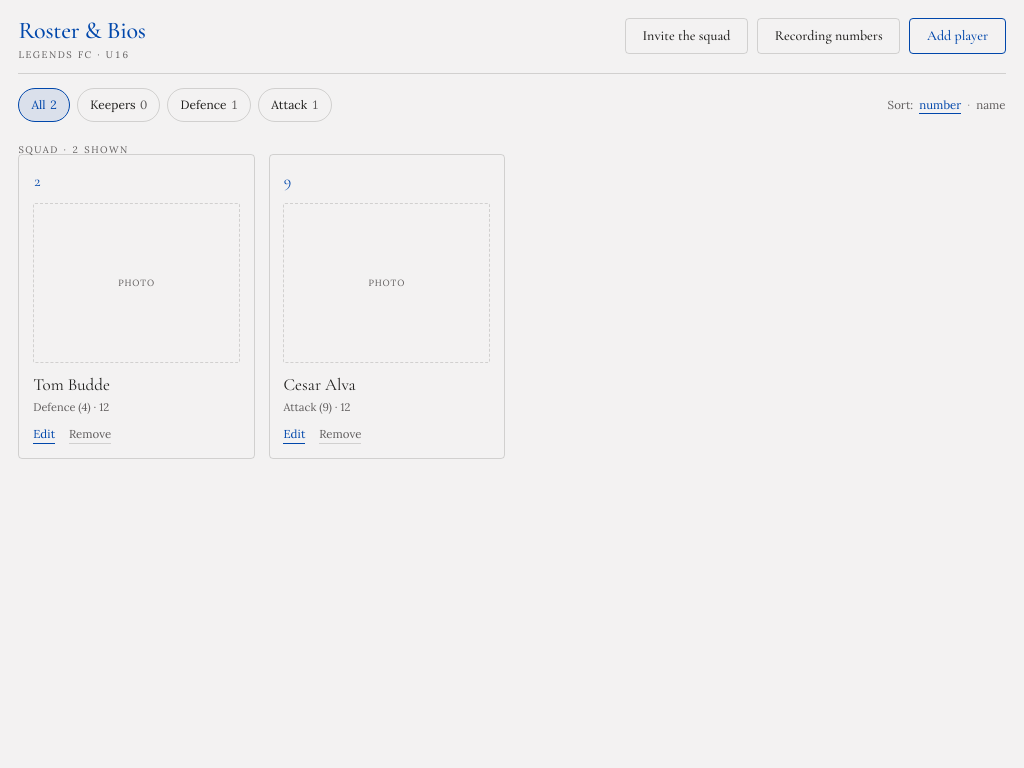
Test: what a coach may do › opens an empty form to add
Click the button "Add player" at coordinates (958, 36), box x1=910 y1=18 x2=1006 y2=54
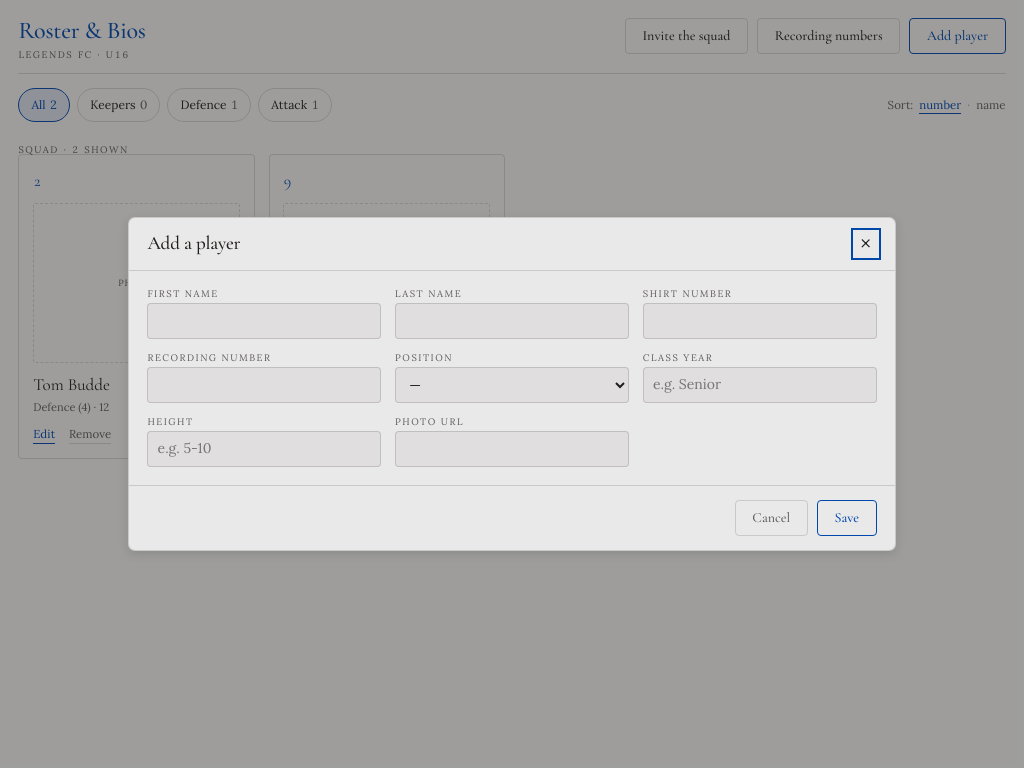
expect the field labelled "First name" is empty: met, box x1=147 y1=303 x2=381 y2=339
expect the field labelled "First name" is shown: met, box x1=147 y1=303 x2=381 y2=339
